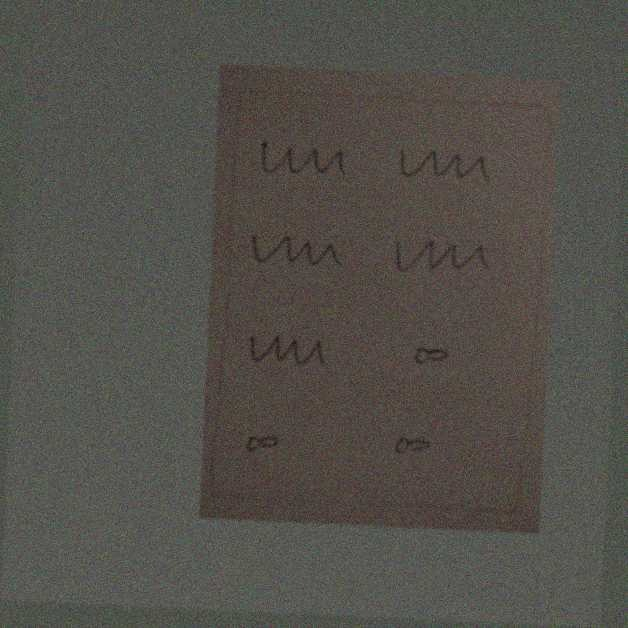switch: (404, 334, 459, 376), (389, 426, 436, 462), (238, 427, 286, 459)
text: (389, 228, 500, 286), (252, 131, 360, 189), (243, 220, 345, 277), (391, 140, 498, 189), (243, 326, 335, 377)
